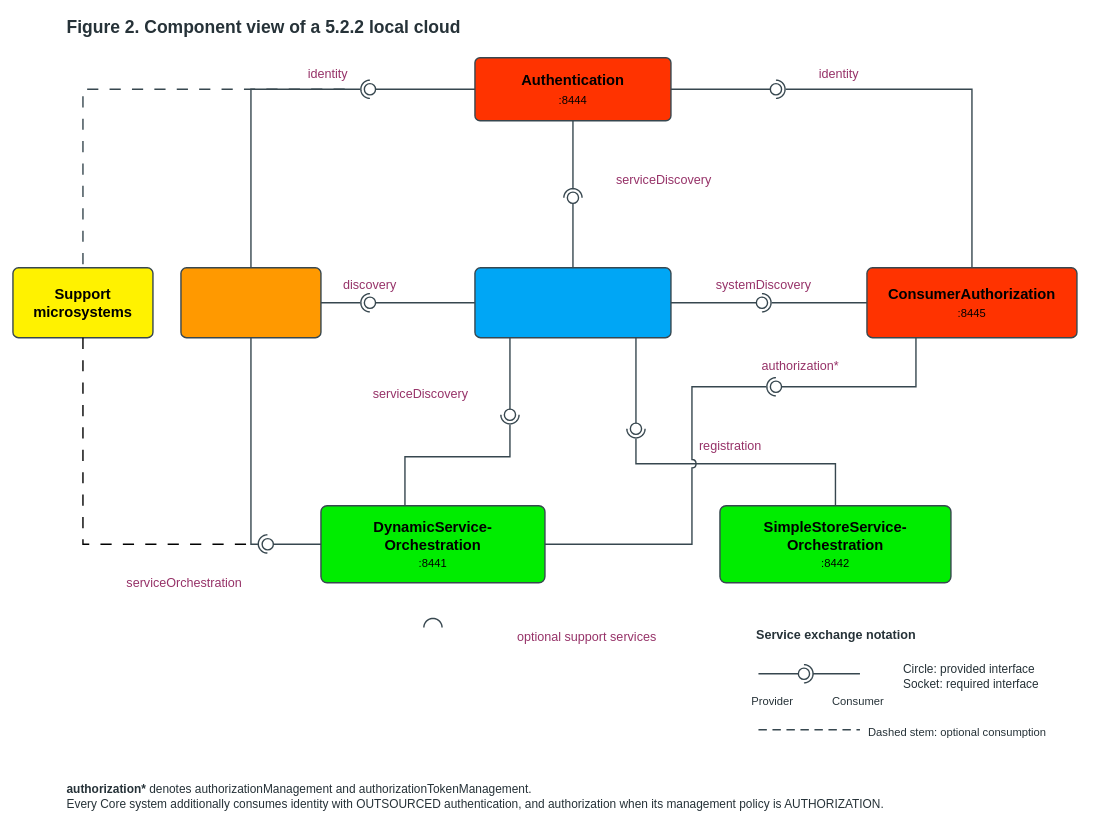
Image size: 1106x834. Some labels were removed from this diagram. Here are the shapes that lost their labels. From the top down, the centre of each, then its label:
At [250,302]: "Application microsystems".
At [572,302]: "ServiceRegistry :8443".
